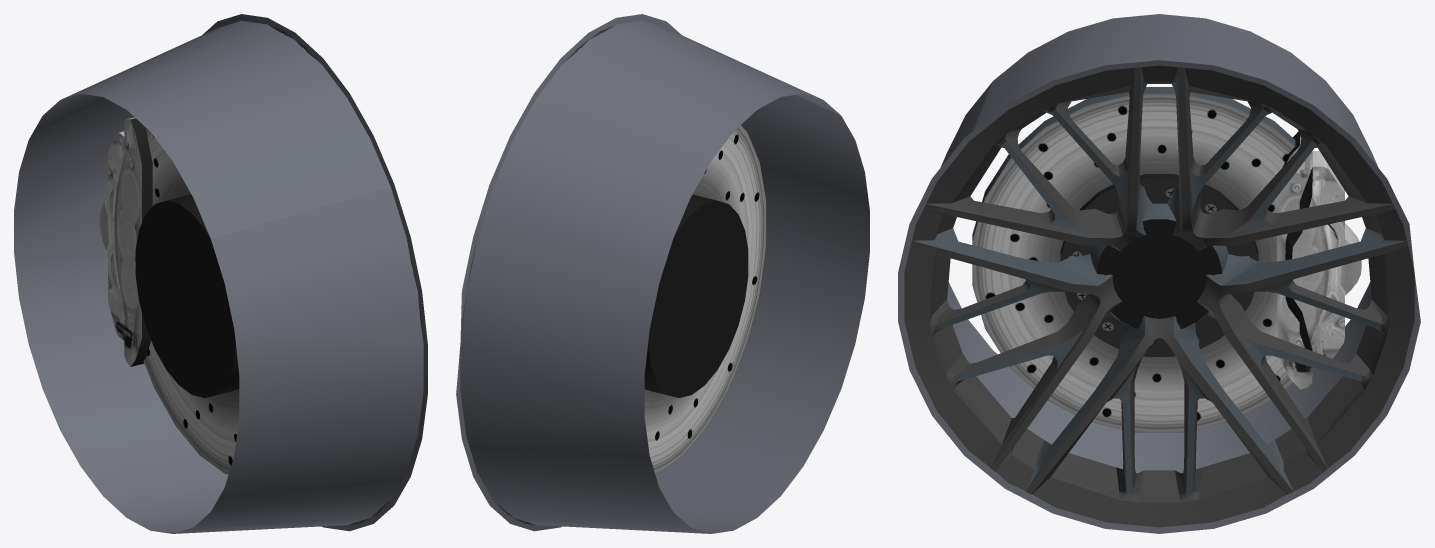
3 renders of one model, left to right at view 1: azimuth 30°, elevation 25°; view 2: azimuth 150°, elevation 25°; view 3: azimuth 270°, elevation 25°, orthographic.
Visible parts, largest first — view 1: 130, BrakeDisc, Caliper; view 2: 130, BrakeDisc; view 3: 130, BrakeDisc, Caliper.
Boxes of the visible parts, <box> form: 130: <box>14,14,427,533</box>; BrakeDisc: <box>135,127,239,474</box>; Caliper: <box>99,117,152,366</box>; 130: <box>456,14,869,533</box>; BrakeDisc: <box>644,125,766,474</box>; 130: <box>898,14,1420,533</box>; BrakeDisc: <box>972,87,1295,432</box>; Caliper: <box>1277,131,1361,389</box>.
Size of the model in its own units: 0.197 by 0.5343 by 0.5343.
